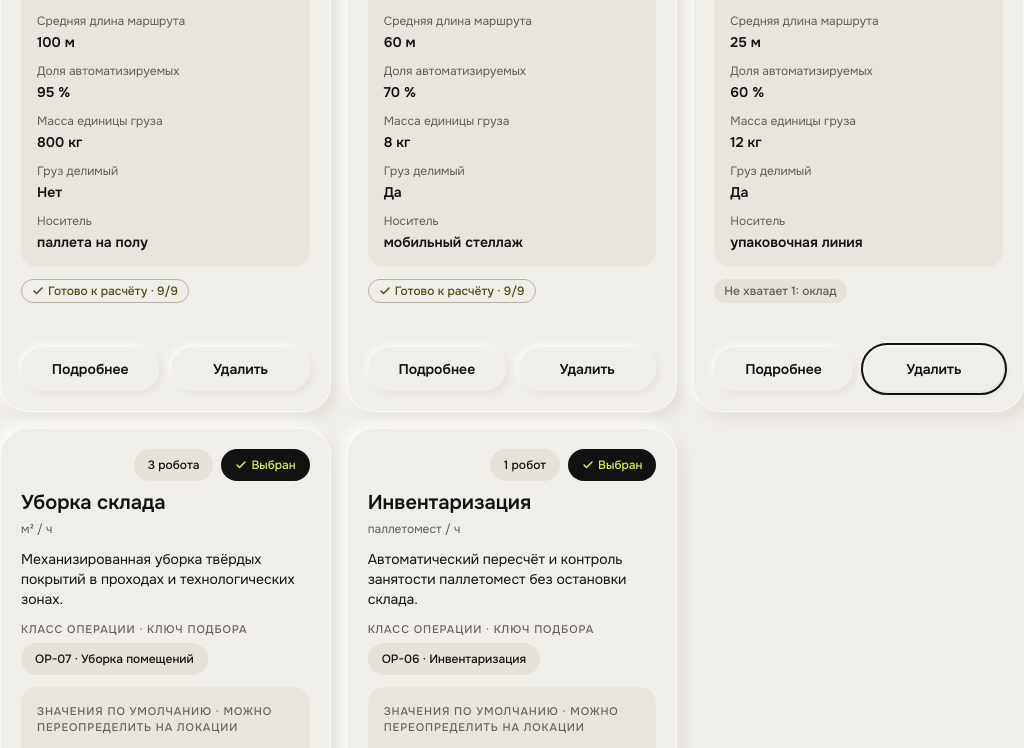
Test: LocationPage (экраны 15 и 17) › окно 17в «Удалить процесс с локации» (PRD 10.4) › keeps the card when cancelled and returns focus to «Удалить»
The width and height of the screenshot is (1024, 748).
(page scrolled)
Click the button with aria-label "Удалить процесс «Упаковка» с локации".
click(934, 369)  # box [865, 347, 1003, 391]
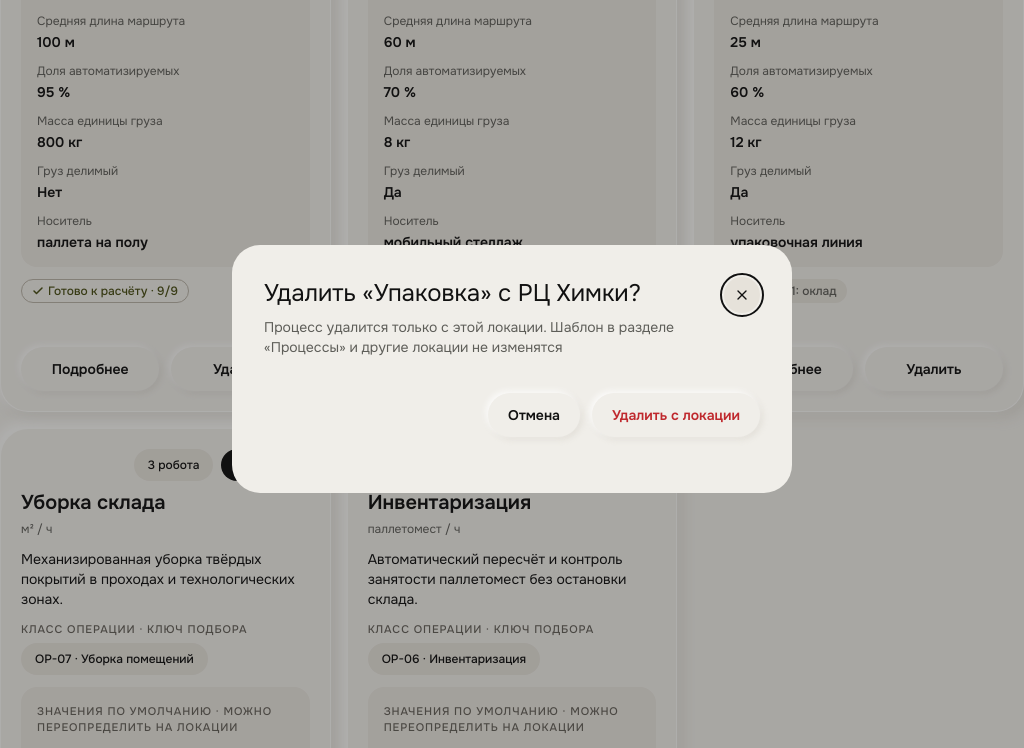
Click the button "Отмена".
click(534, 415)  # box [488, 393, 580, 437]
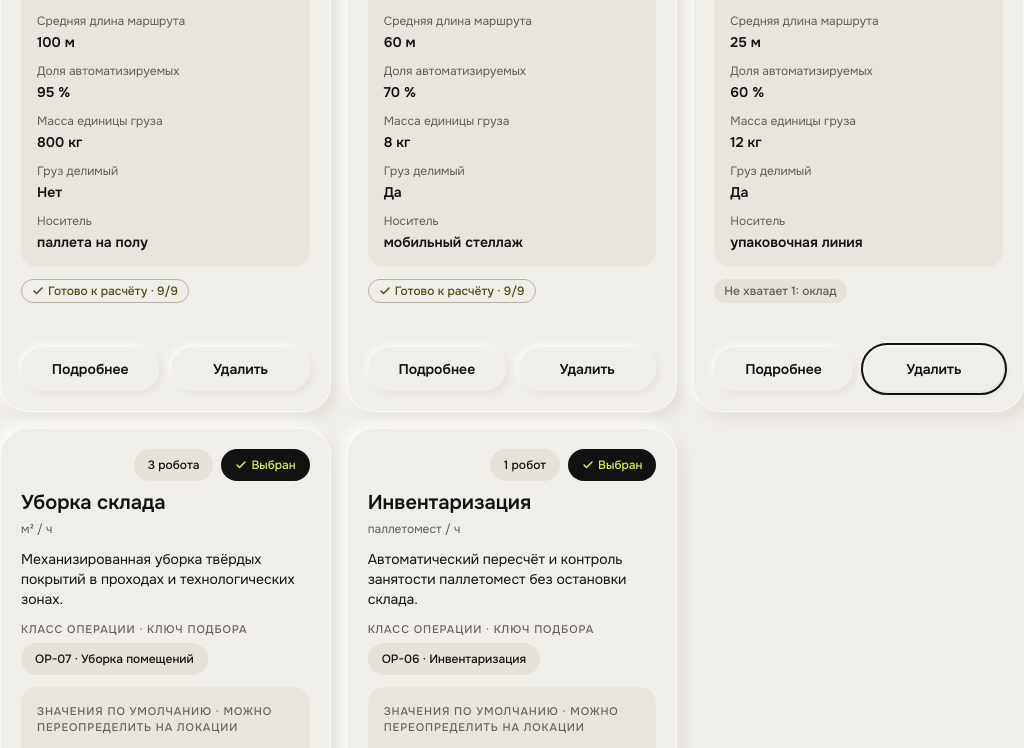
Expected: the dialog is gone
